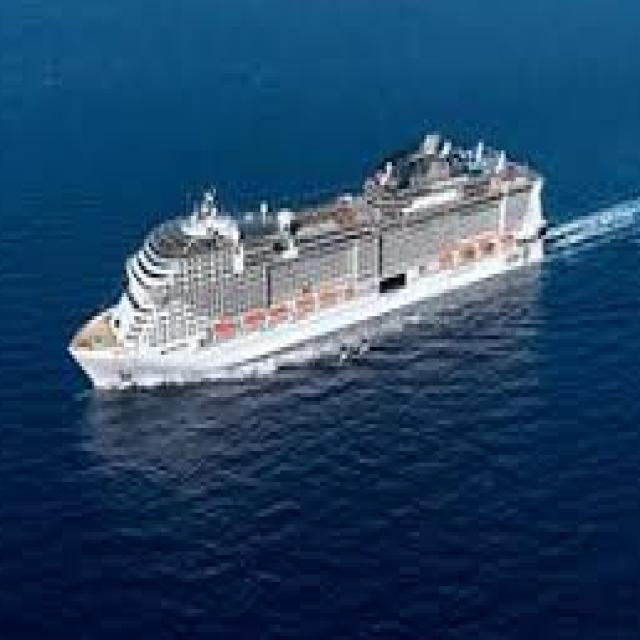passenger ship: (66, 129, 552, 405)
